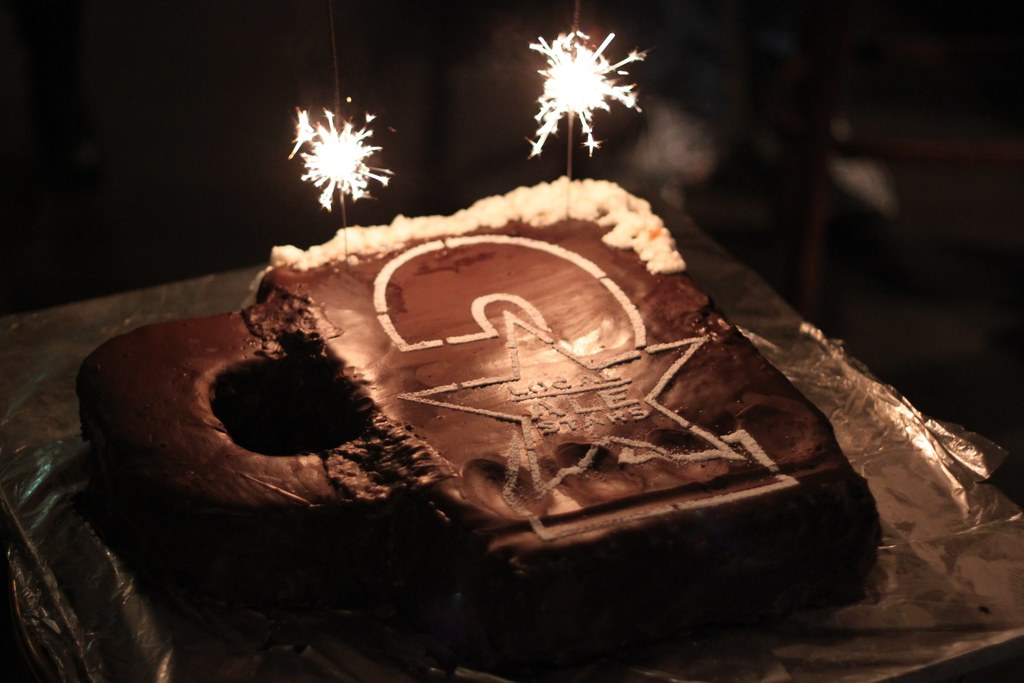cake: (88, 179, 878, 625)
